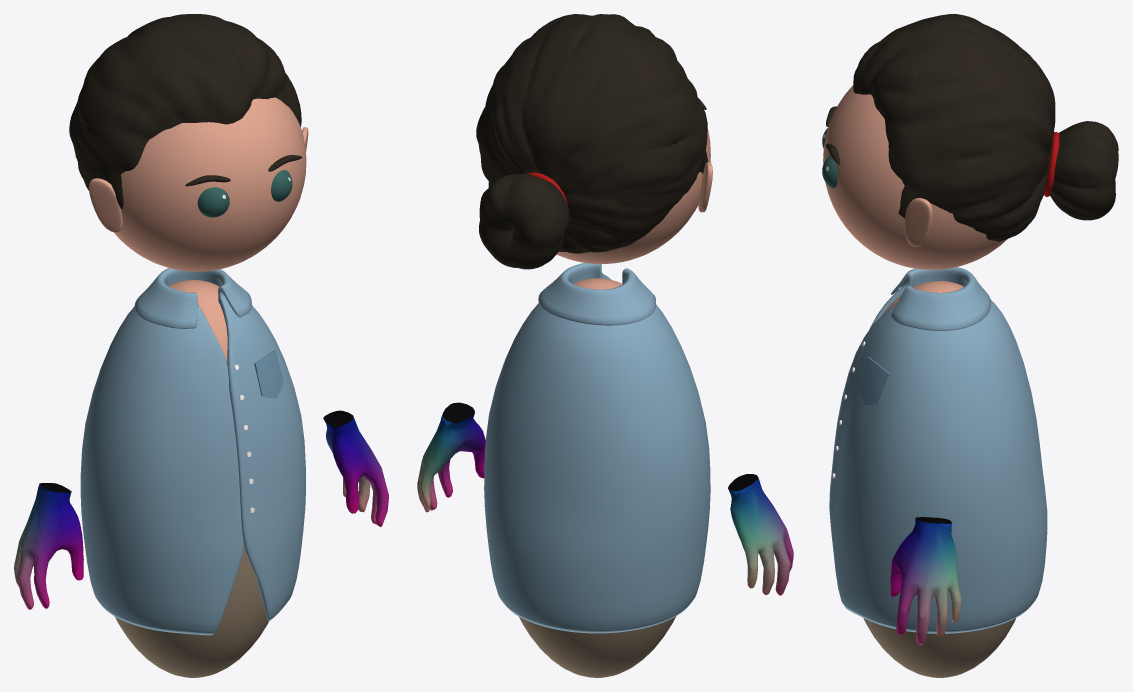
Rendered from JennySaville.fbx.
3 renders of one model, left to right at view 1: azimuth 30°, elevation 25°; view 2: azimuth 150°, elevation 25°; view 3: azimuth 270°, elevation 25°, orthographic.
Visible parts, largest first — view 1: Shirt.004, Sphere.007, Head.013, Hands.013, Body.020, Cube.019, Eyes.013, Cube.020; view 2: Shirt.004, Sphere.007, Hands.013, Body.020, Head.013; view 3: Shirt.004, Sphere.007, Head.013, Hands.013, Body.020, Cube.019, Cube.020, Torus.003.
Part boxes in pixels (x1=…): Shirt.004: x1=80, y1=268, x2=305, y2=635; Sphere.007: x1=69, y1=14, x2=301, y2=209; Head.013: x1=113, y1=97, x2=306, y2=271; Hands.013: x1=14, y1=410, x2=388, y2=609; Body.020: x1=115, y1=280, x2=268, y2=677; Cube.019: x1=88, y1=127, x2=308, y2=232; Eyes.013: x1=197, y1=170, x2=292, y2=217; Cube.020: x1=254, y1=350, x2=283, y2=398; Shirt.004: x1=484, y1=263, x2=710, y2=633; Sphere.007: x1=476, y1=14, x2=707, y2=269; Hands.013: x1=417, y1=402, x2=793, y2=595; Body.020: x1=519, y1=278, x2=675, y2=677; Head.013: x1=556, y1=129, x2=710, y2=263; Shirt.004: x1=829, y1=267, x2=1047, y2=633; Sphere.007: x1=853, y1=14, x2=1118, y2=241; Head.013: x1=823, y1=85, x2=1007, y2=269; Hands.013: x1=890, y1=517, x2=961, y2=645; Body.020: x1=863, y1=281, x2=1015, y2=677; Cube.019: x1=904, y1=198, x2=932, y2=246; Cube.020: x1=858, y1=357, x2=890, y2=404; Torus.003: x1=1043, y1=132, x2=1059, y2=196.
Bounding box in the file's own units: 383 × 649 × 269.
